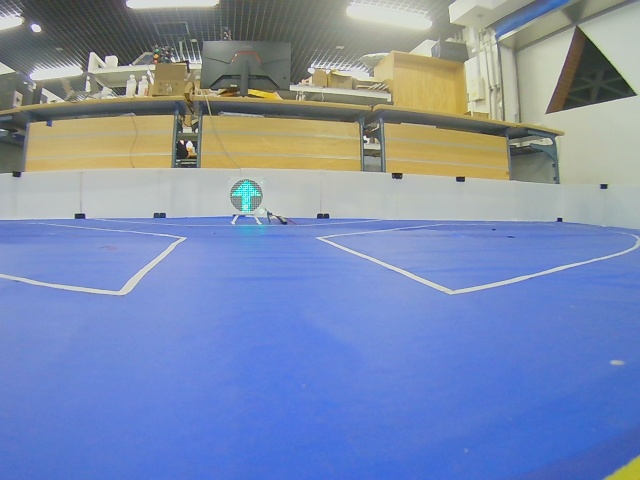straight_green: (230, 179, 263, 213)
